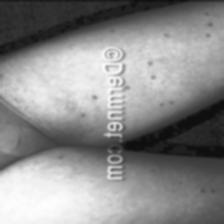Toxin: (200, 11, 215, 43), (147, 57, 161, 87), (149, 96, 179, 110), (196, 187, 220, 196), (52, 152, 72, 162), (103, 28, 125, 36), (89, 92, 102, 103), (10, 94, 23, 104), (160, 29, 174, 38), (176, 176, 186, 188), (76, 112, 88, 118)
